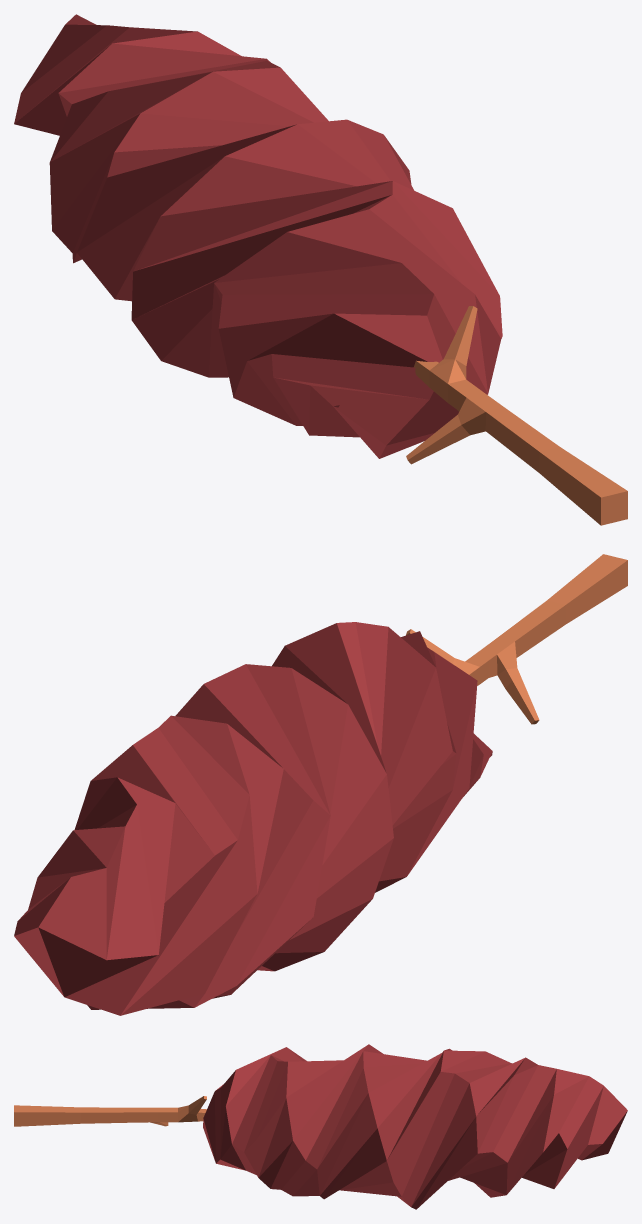
Rendered from tree2.fbx.
3 renders of one model, top to bottom at view 1: azimuth 30°, elevation 25°; view 2: azimuth 150°, elevation 25°; view 3: azimuth 270°, elevation 25°, orthographic. The views are drawn at different scales.
Visible parts, largest first — view 1: Cube.001; view 2: Cube.001; view 3: Cube.001.
Boxes of the visible parts, bbox=[...] form: Cube.001: bbox=[14, 14, 627, 525]; Cube.001: bbox=[14, 554, 627, 1015]; Cube.001: bbox=[14, 1044, 627, 1209].
Size of the model in its own units: 251 by 252 by 922.
